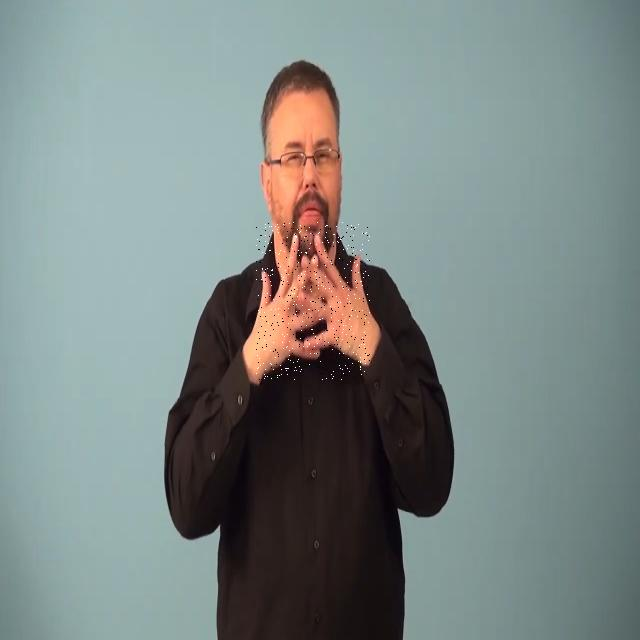juicy: (256, 222, 370, 380)
